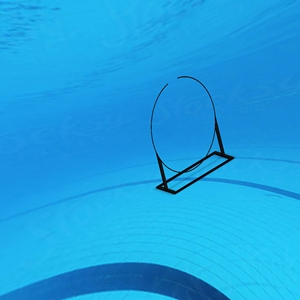circle: (147, 73, 238, 200)
